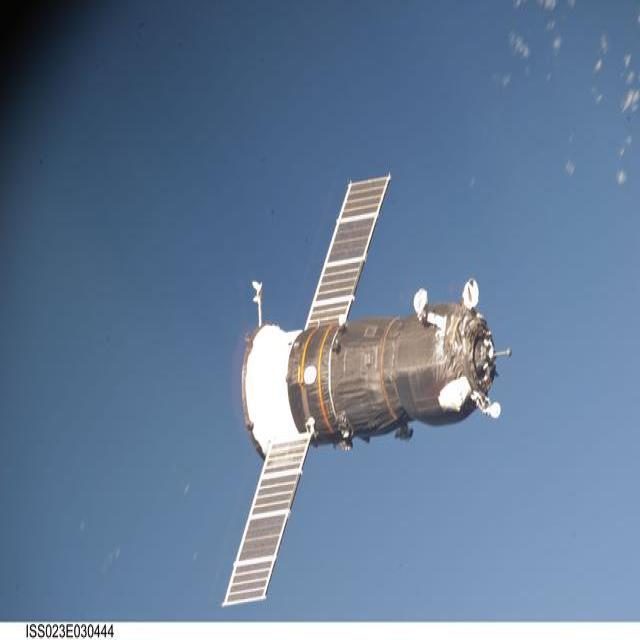medium_debris: (225, 177, 500, 604), (256, 283, 260, 304)
